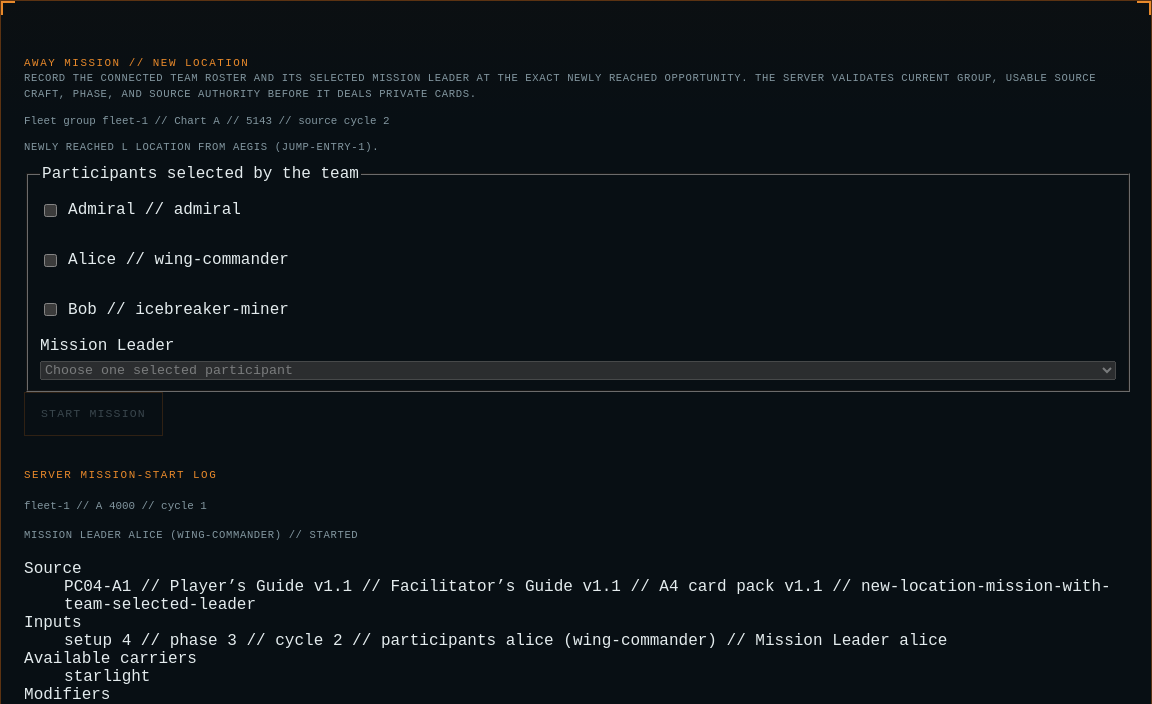
Test: renders prepared review data and submits through the injected local command boundary
The width and height of the screenshot is (1152, 704).
Expected: the element named "mission start receipts" shows "Available carriers", [24,650,197,668]
Click the checkbox labelled "Alice // wing-commander" at (50, 260), box [44,254,57,266]
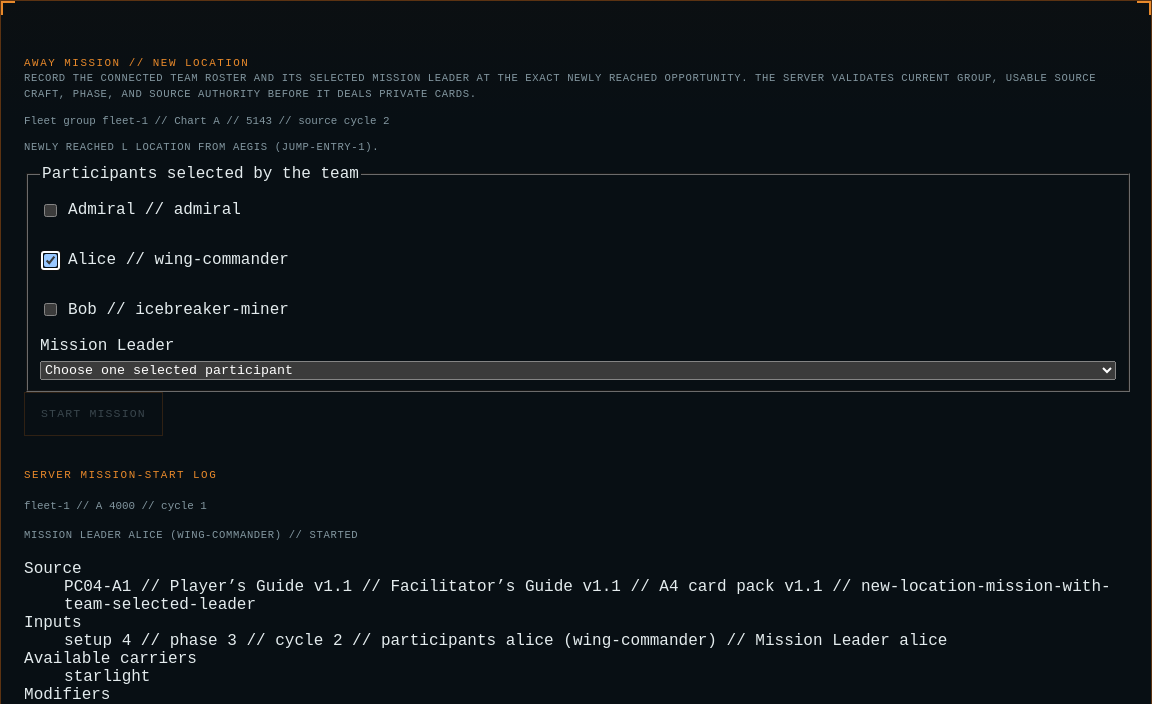
Select "Alice // wing-commander" in the dropdown labelled "Mission Leader" at (578, 370), box [40,361,1116,380]
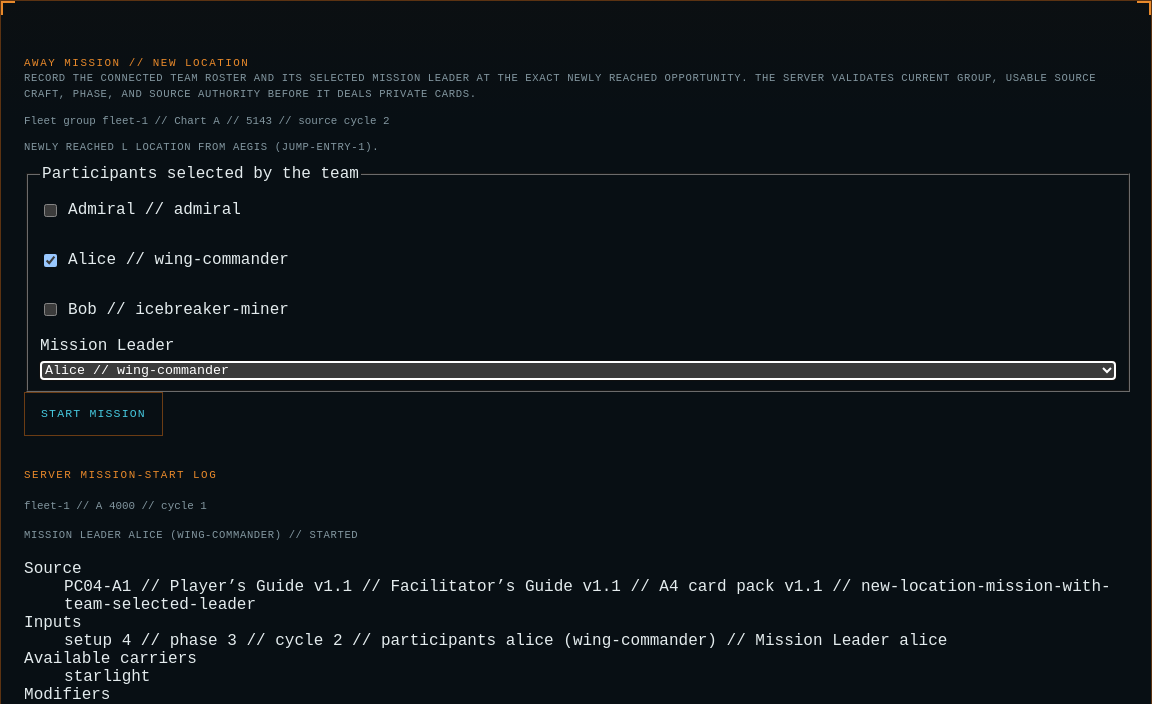
Click the button "Start mission" at (93, 414), box [24,392,163,436]
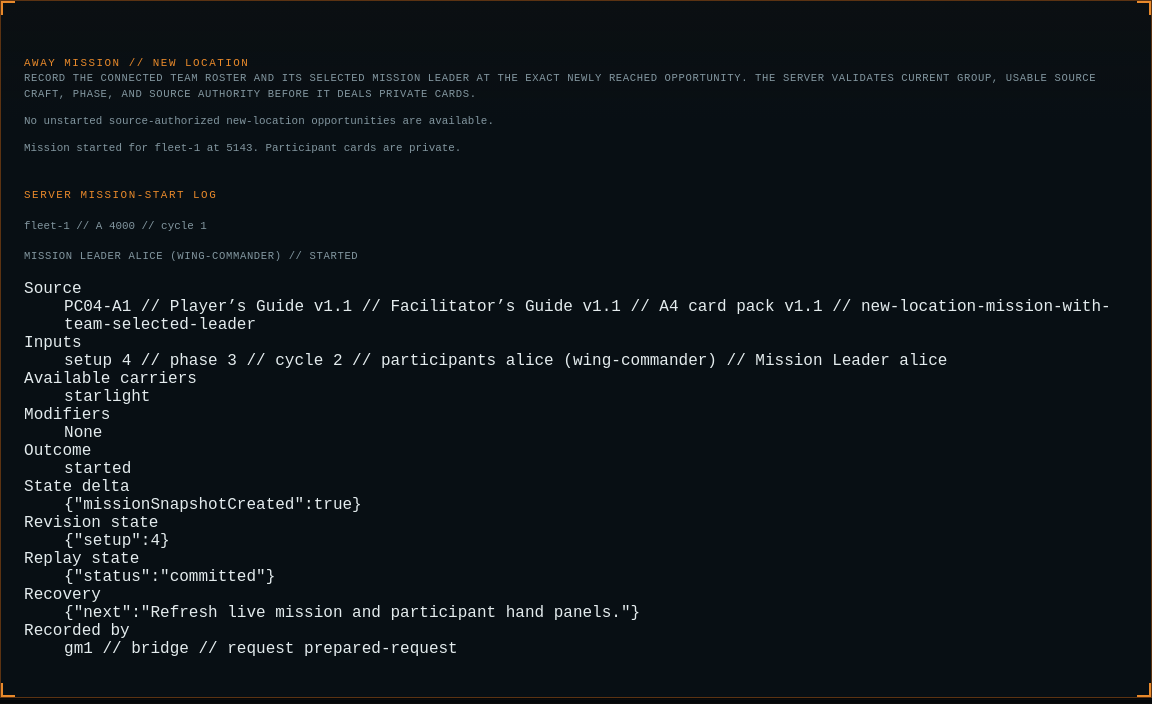
Expected: the message named "Mission start result" shows "Mission started", [24,142,461,154]
